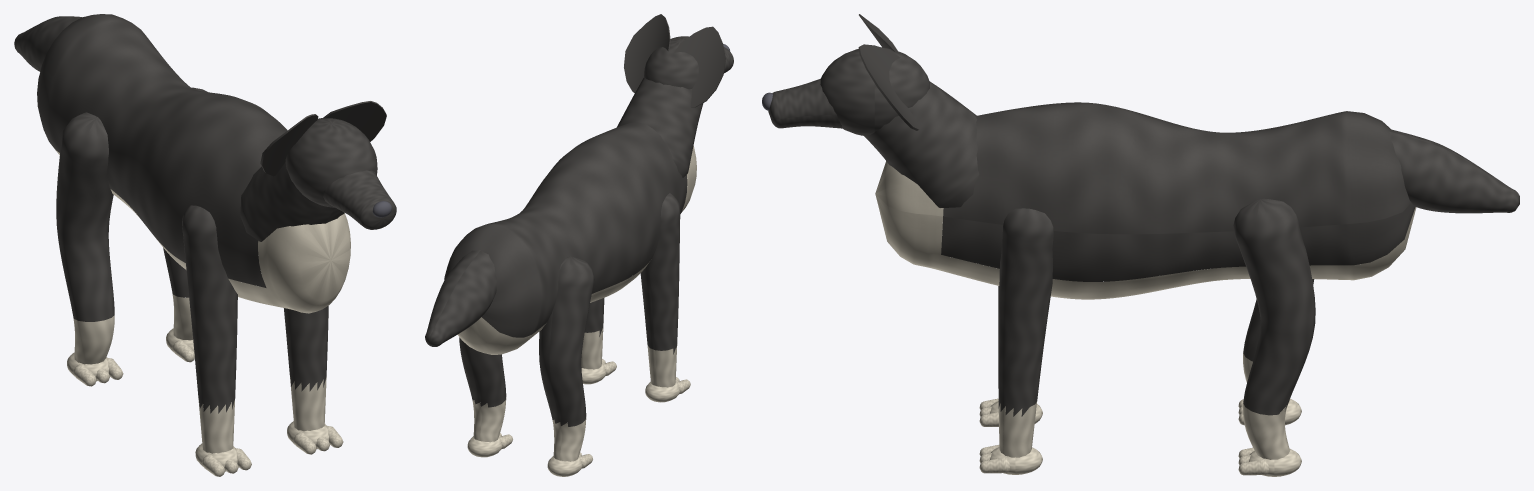
The model's file is pets-and-companions-hd-border-collie-01440eba__28129.glb.
3 renders of one model, left to right at view 1: azimuth 30°, elevation 25°; view 2: azimuth 150°, elevation 25°; view 3: azimuth 270°, elevation 25°, orthographic. The views are drawn at different scales.
Visible parts, largest first — view 1: border-collie; view 2: border-collie; view 3: border-collie.
Boxes of the visible parts, box(x1,y1,x2,y2) form: border-collie: box(14, 14, 396, 476); border-collie: box(425, 14, 733, 476); border-collie: box(762, 14, 1519, 476).
Size of the model in its own units: 0.2533 by 0.6369 by 1.05.
Materials: 3 (2 with a texture image).
